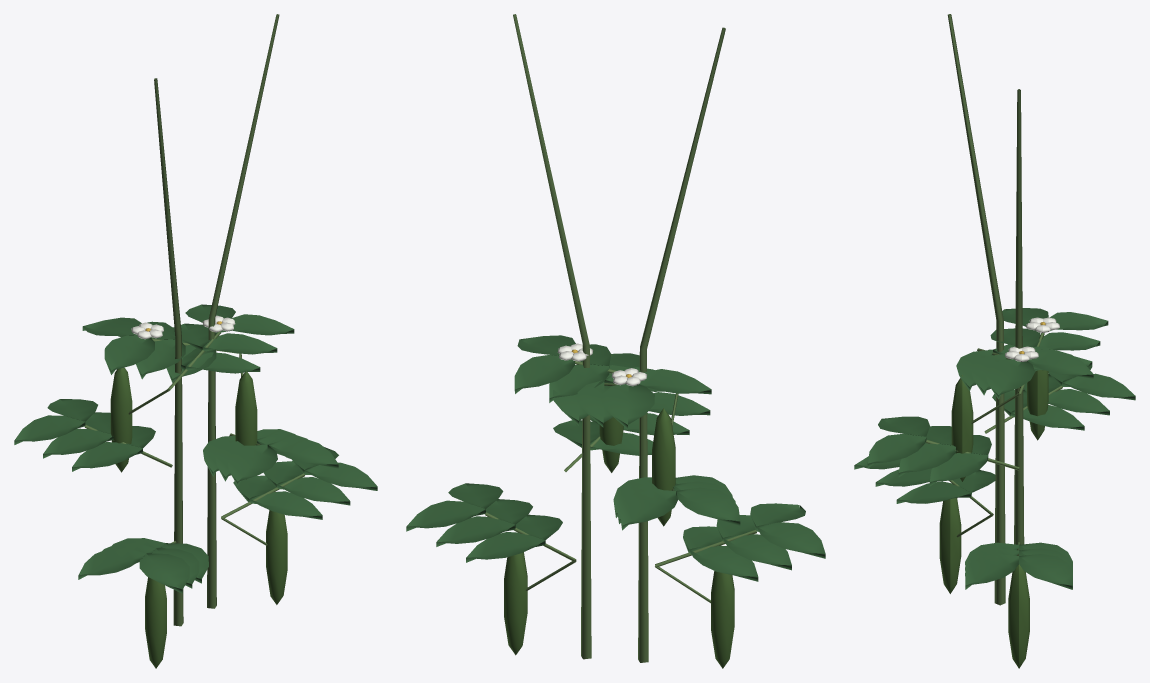
The model's file is haba.glb.
The picture shows the model from 3 angles, left to right: view 1: azimuth 30°, elevation 25°; view 2: azimuth 150°, elevation 25°; view 3: azimuth 270°, elevation 25°; orthographic projection. The views are drawn at different scales.
Parts seen in each view (by area): view 1: haba; view 2: haba; view 3: haba.
Boxes of the visible parts, x1=… form: haba: x1=14, y1=14, x2=377, y2=668; haba: x1=406, y1=14, x2=825, y2=668; haba: x1=854, y1=14, x2=1135, y2=668.
Size of the model in its own units: 0.5749 by 1.03 by 0.4506.
